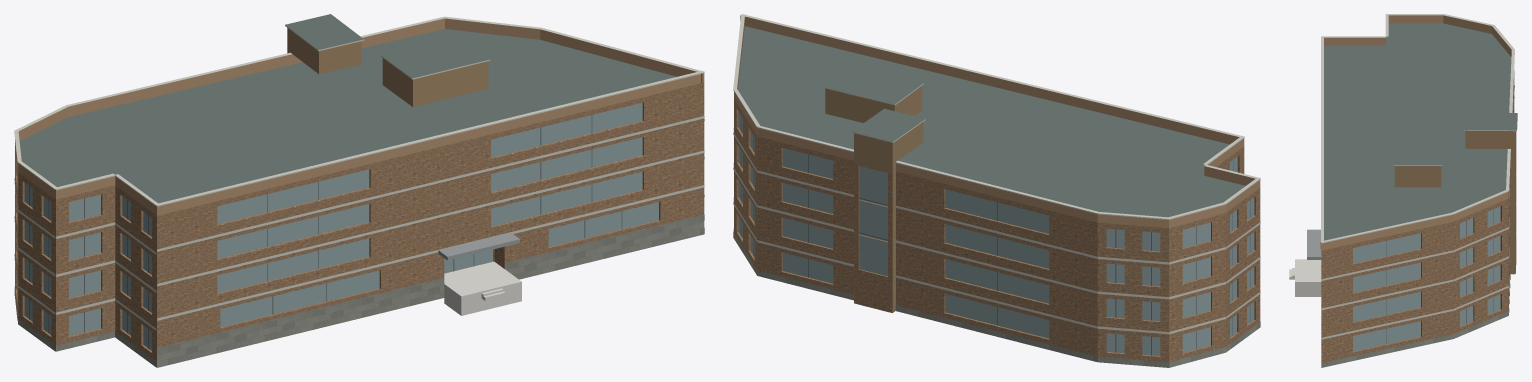
3 views of the same model, side by side, from view 1: azimuth 30°, elevation 25°; view 2: azimuth 150°, elevation 25°; view 3: azimuth 270°, elevation 25° (orthographic). The views are drawn at different scales.
Parts seen in each view (by area): view 1: b57__wall, b57__roof, b57__glass, b57__parapet, b57__trim, b57__base, b57__wall2, b57__entranceStair, b57__canopy, b57__frame; view 2: b57__wall, b57__roof, b57__glass, b57__parapet, b57__trim, b57__wall2, b57__base, b57__frame; view 3: b57__roof, b57__wall, b57__glass, b57__trim, b57__parapet, b57__wall2, b57__entranceStair, b57__base, b57__canopy.
Boxes of the visible parts, x1,y1,x2,y2 form: b57__wall: (15, 82, 704, 367); b57__roof: (19, 14, 703, 367); b57__glass: (24, 102, 658, 350); b57__parapet: (15, 18, 704, 215); b57__trim: (14, 16, 704, 330); b57__base: (14, 214, 704, 367); b57__wall2: (287, 28, 488, 106); b57__entranceStair: (444, 261, 521, 315); b57__canopy: (438, 232, 519, 260); b57__frame: (29, 115, 622, 348); b57__wall: (734, 99, 1260, 367); b57__roof: (738, 26, 1245, 217); b57__glass: (738, 112, 1254, 355); b57__parapet: (734, 15, 1260, 228); b57__trim: (733, 14, 1260, 334); b57__wall2: (825, 86, 923, 312); b57__base: (733, 229, 1260, 367); b57__frame: (741, 116, 1250, 355); b57__roof: (1324, 23, 1517, 240); b57__wall: (1321, 71, 1516, 367); b57__glass: (1353, 206, 1500, 351); b57__trim: (1320, 14, 1517, 339); b57__parapet: (1320, 15, 1511, 250); b57__wall2: (1394, 130, 1516, 274); b57__entranceStair: (1289, 259, 1321, 296); b57__base: (1321, 275, 1510, 367); b57__canopy: (1307, 229, 1321, 259).
Bounding box in the file's own units: 60.29 × 18.33 × 25.46.
Materials: 11 (2 with a texture image).
